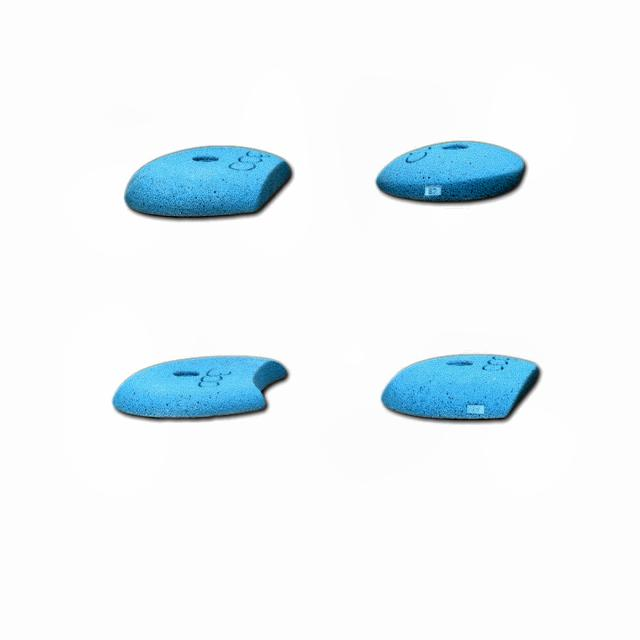Hold: (123, 148, 294, 217), (382, 351, 542, 424), (108, 364, 304, 418), (376, 140, 529, 208)
